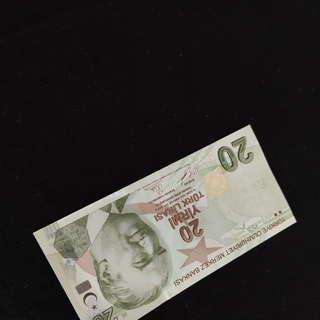20TLFront: (32, 123, 297, 320)
